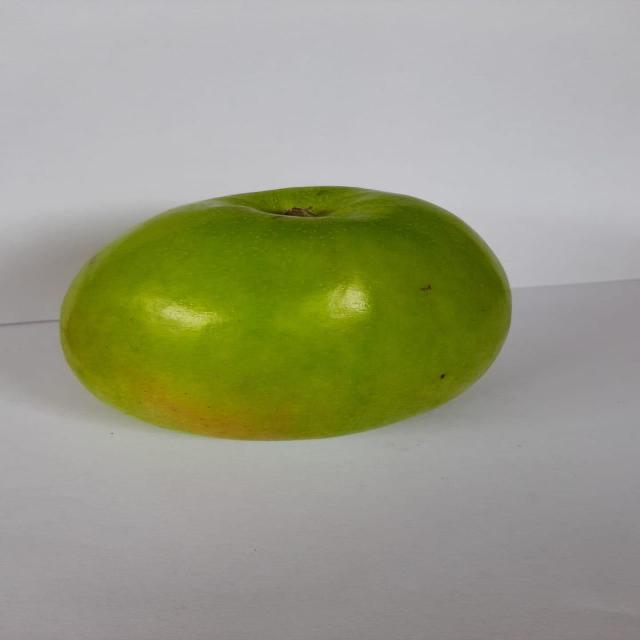Rotten Apple: (42, 176, 540, 450)
